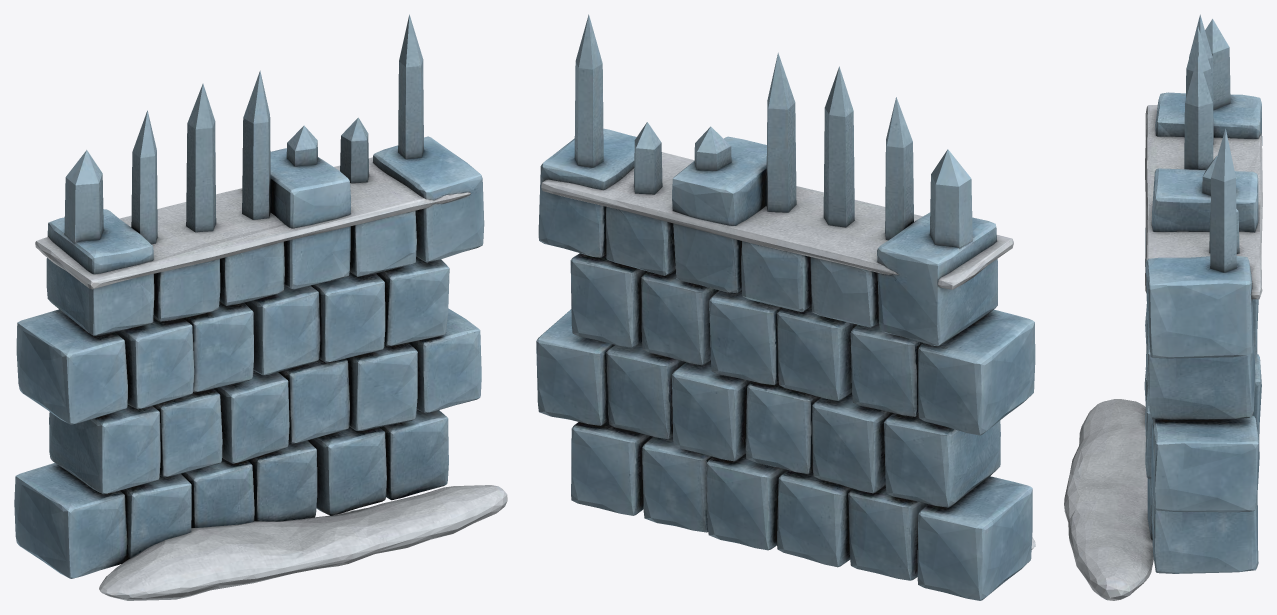
File: geada_muralha_gelo.glb
3 views of the same model, side by side, from view 1: azimuth 30°, elevation 25°; view 2: azimuth 150°, elevation 25°; view 3: azimuth 270°, elevation 25° (orthographic). The views are drawn at different scales.
Parts seen in each view (by area): view 1: geada_muralha_gelo_tronco; view 2: geada_muralha_gelo_tronco; view 3: geada_muralha_gelo_tronco.
Part boxes in pixels (x1,y1,x2,y2): geada_muralha_gelo_tronco: [14, 14, 507, 600]; geada_muralha_gelo_tronco: [536, 14, 1035, 600]; geada_muralha_gelo_tronco: [1064, 14, 1262, 600].
Size of the model in its own units: 4.58 by 4.9 by 1.88.
1 material, 1 textured.
